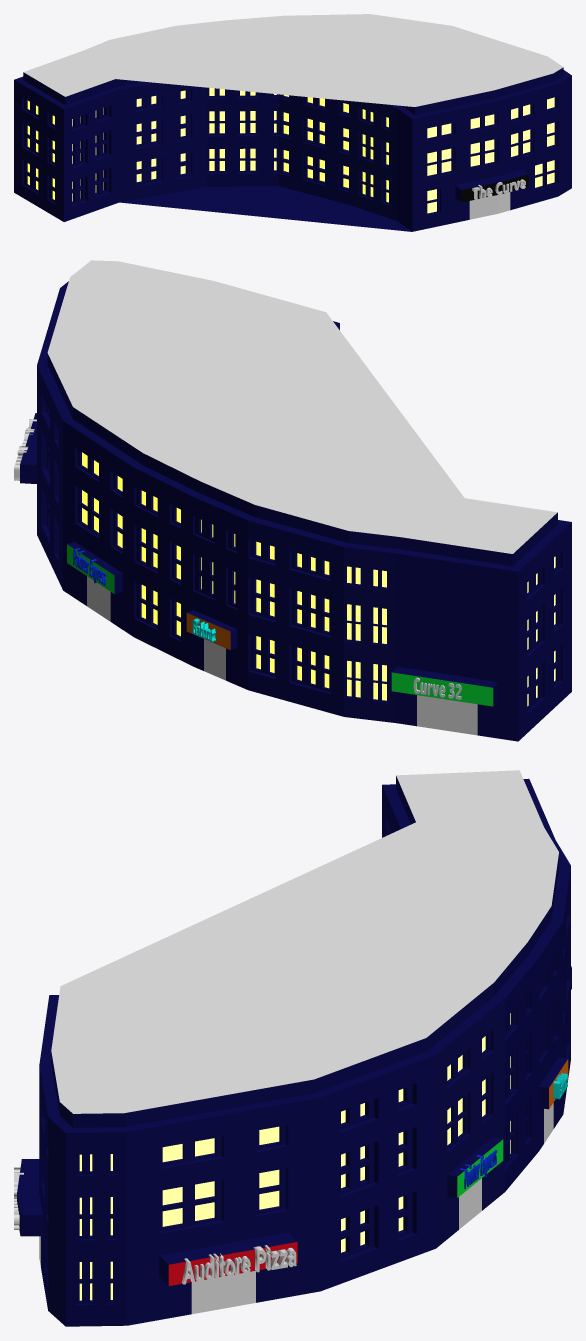
Rendered from the_curve.fbx.
3 views of the same model, one above another, from view 1: azimuth 30°, elevation 25°; view 2: azimuth 150°, elevation 25°; view 3: azimuth 270°, elevation 25° (orthographic). The views are drawn at different scales.
Visible parts, largest first — view 1: the_curve; view 2: the_curve; view 3: the_curve.
Part boxes in pixels (<box>): the_curve: <box>14,14,571,231</box>; the_curve: <box>14,260,571,741</box>; the_curve: <box>14,770,571,1326</box>.
Bounding box in the file's own units: 1185 × 322 × 783.
